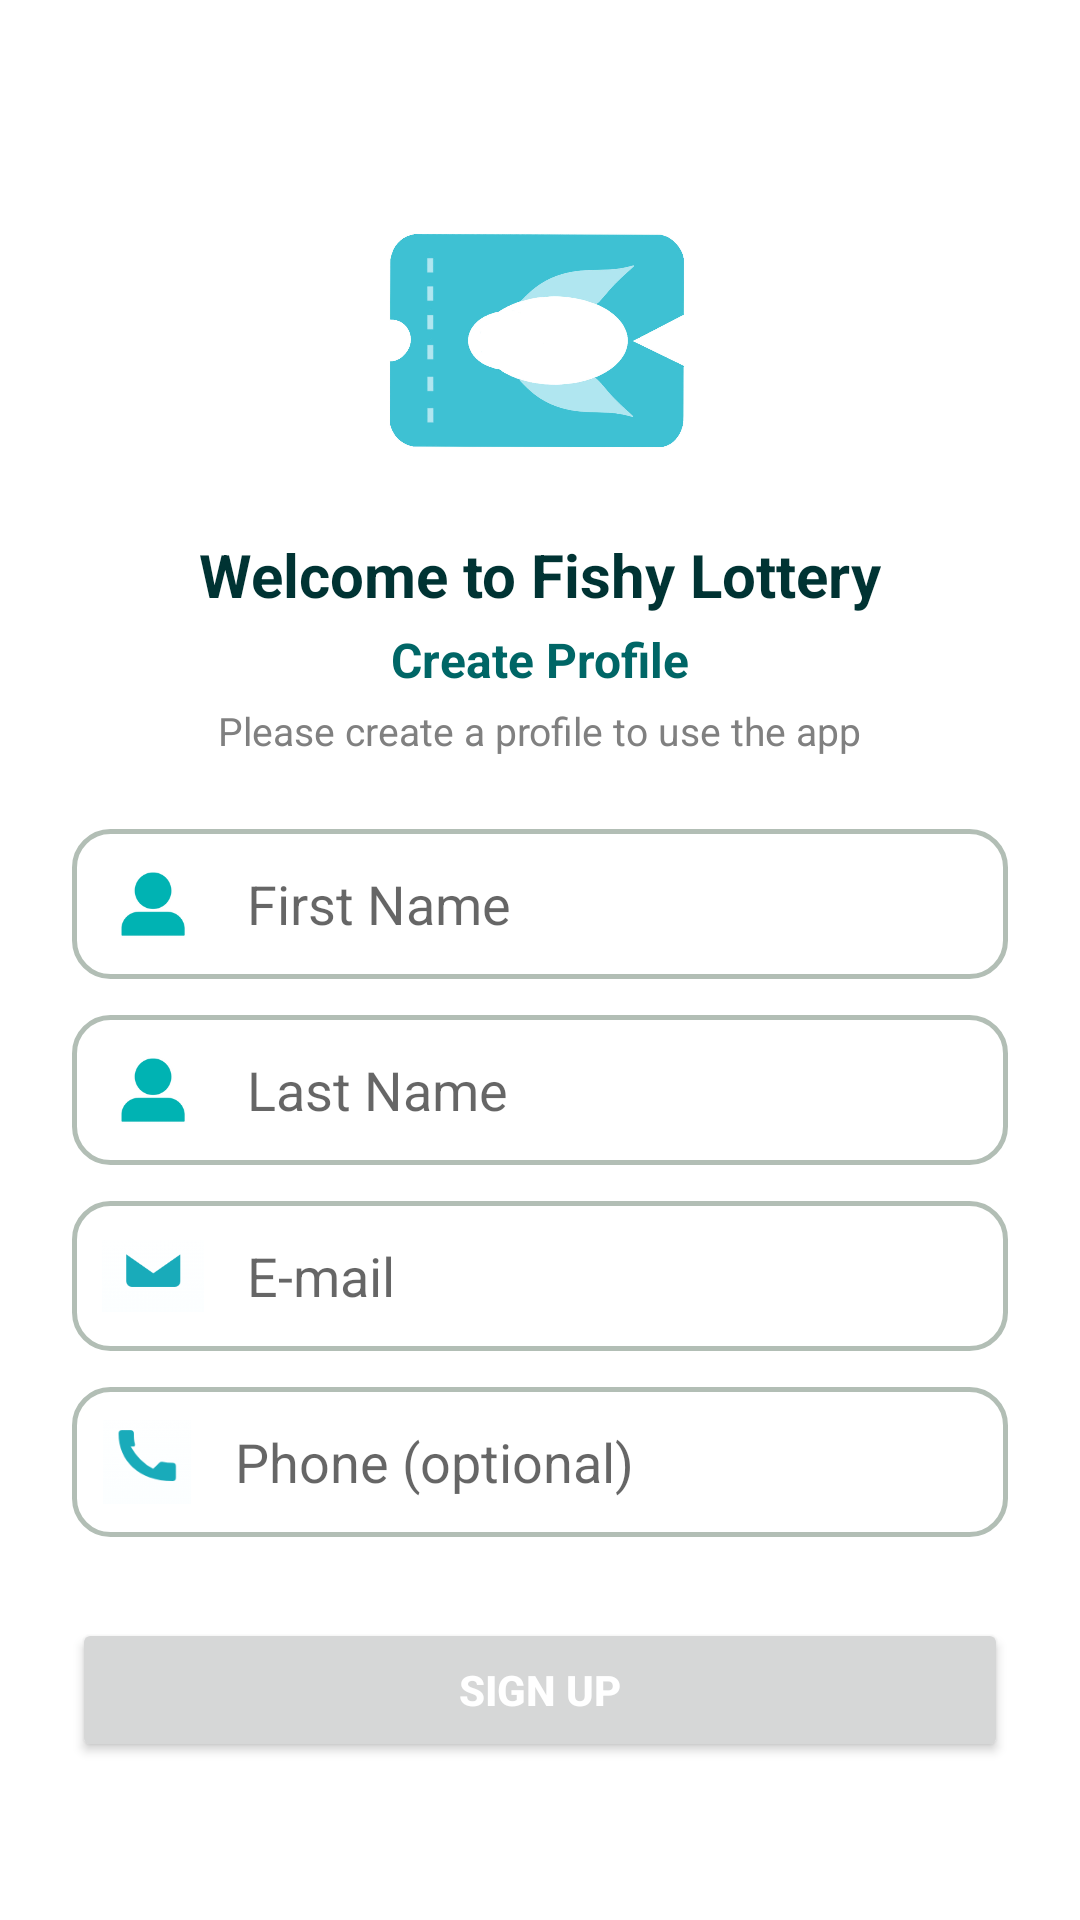

Screen size 1080 × 1920. Icon name, then its center in pixels as (x,y):
create user name: (153,904), (153,1090)
create user phone: (147,1455)
